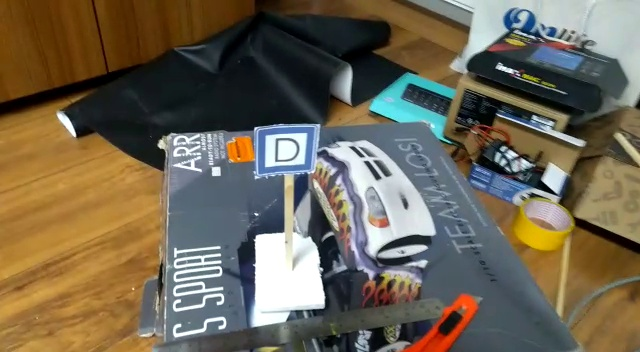durak: (256, 128, 313, 171)
